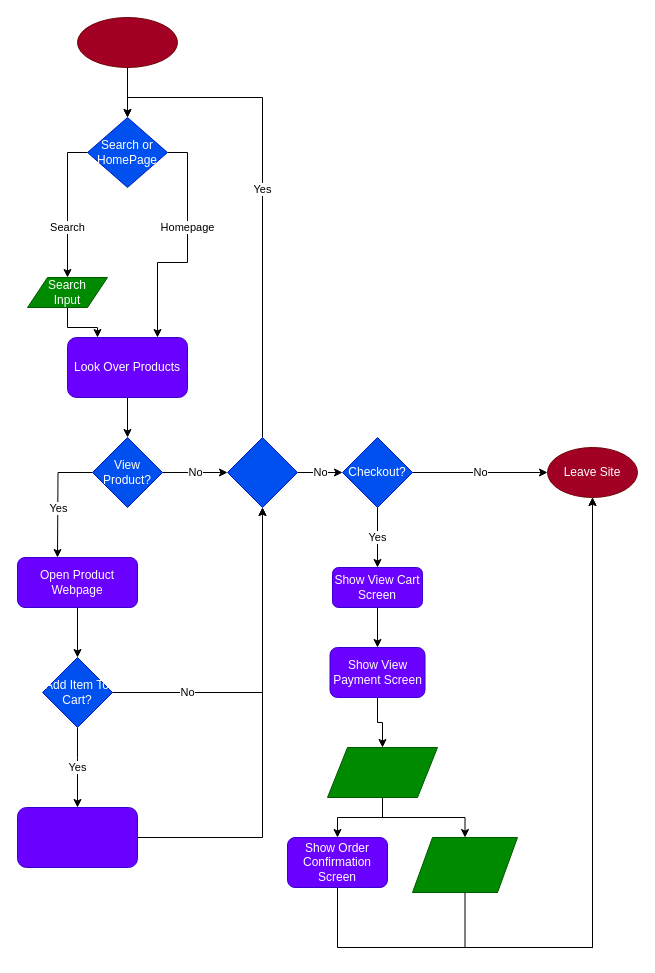
This 655x973 diagram has some shape labels left out. Each missing label, with the box of its shape:
Continue Shopping?: (226, 436, 298, 508)
Enter Website: (76, 16, 178, 68)
Input Payment Information: (326, 746, 438, 798)
Send Confirmation Email: (412, 836, 518, 892)
Show Added Confimation: (16, 806, 138, 868)
